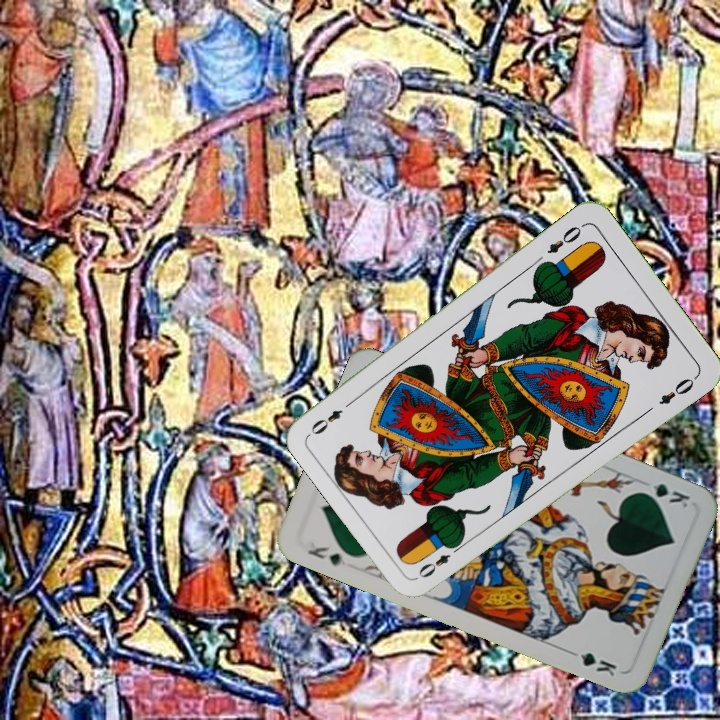EO: (414, 539, 465, 581), (543, 219, 587, 257)
GK: (635, 479, 693, 512), (303, 542, 348, 569)
